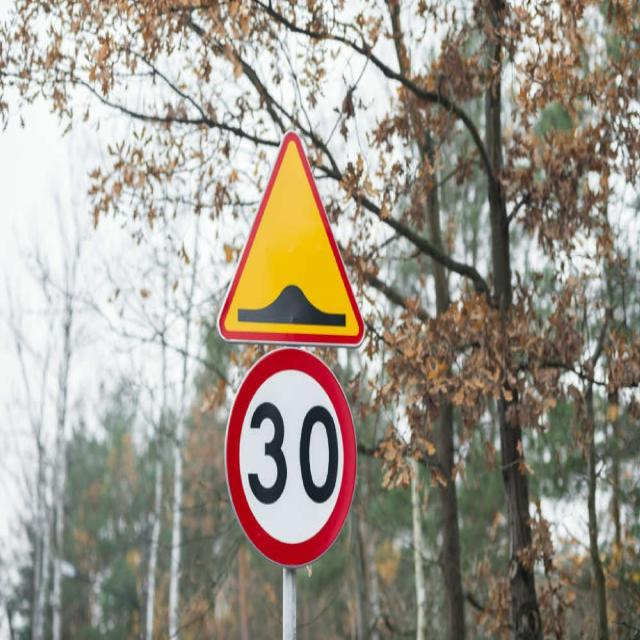Speed Limit -30-: (247, 401, 340, 506)
